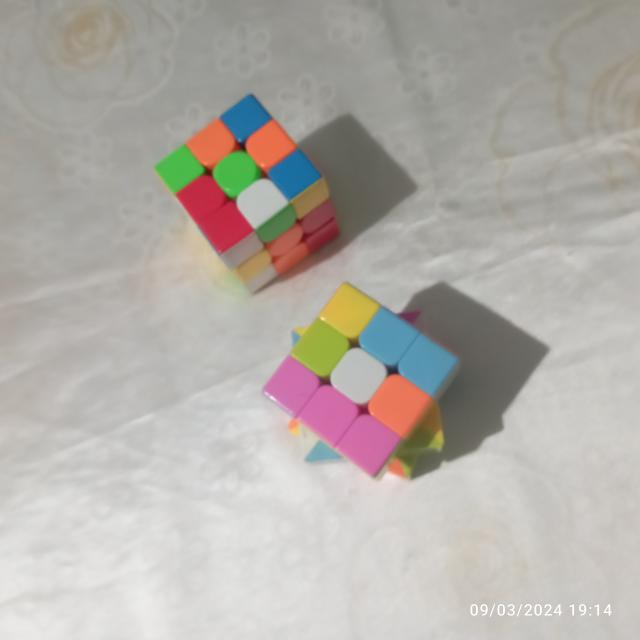Rub: (252, 281, 467, 485), (151, 92, 341, 296)
